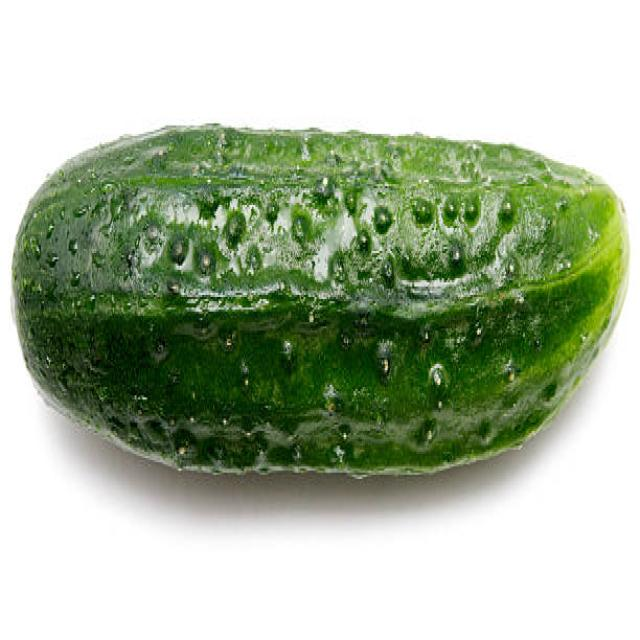cucumber: (12, 123, 630, 478)
